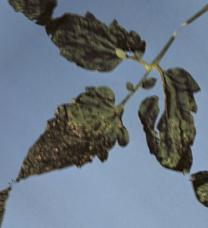Tomato Septoria leaf spot: (0, 68, 154, 223), (35, 0, 160, 104), (111, 52, 208, 181)
